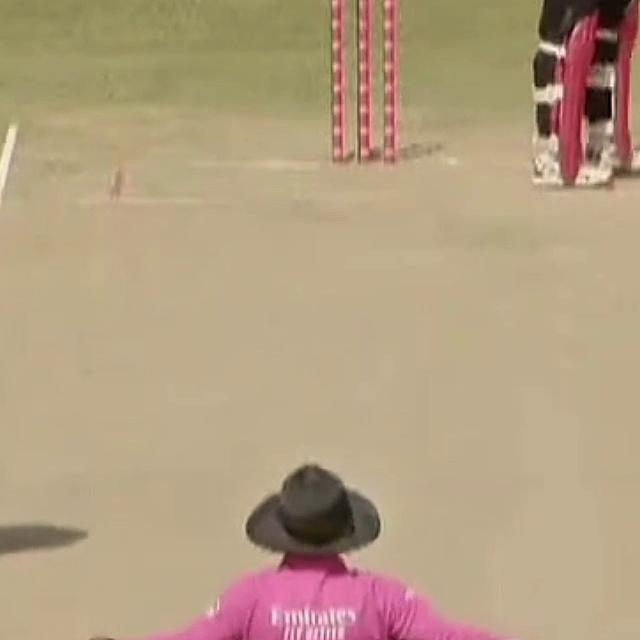umpire: (64, 460, 606, 640)
